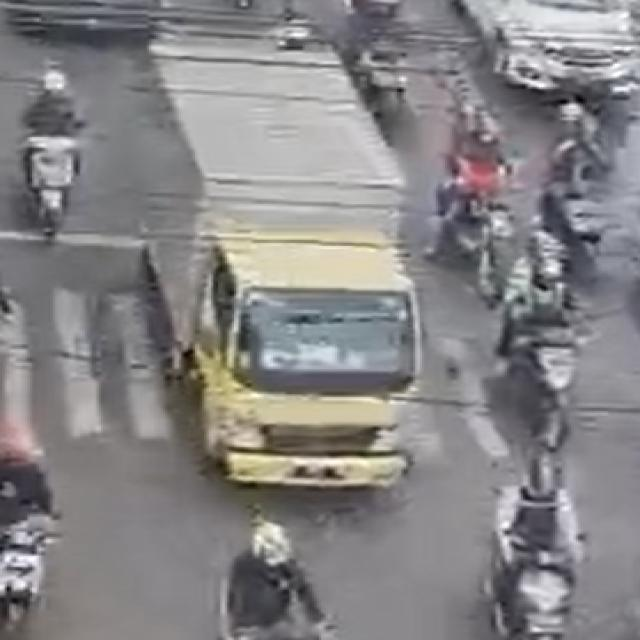motorbike: (488, 452, 596, 640), (490, 248, 584, 460), (211, 496, 327, 640), (9, 59, 96, 233), (427, 115, 522, 266), (0, 411, 48, 628)
truck: (133, 32, 438, 510)
